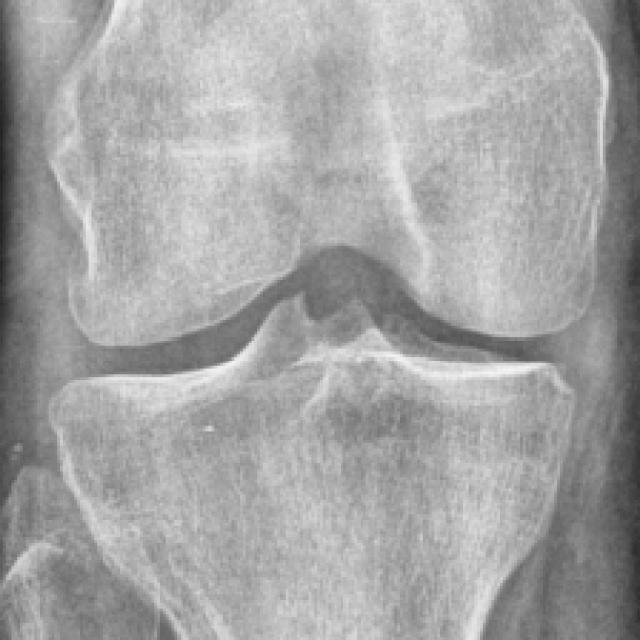femur: (41, 0, 619, 348)
tibia: (45, 302, 574, 640)
